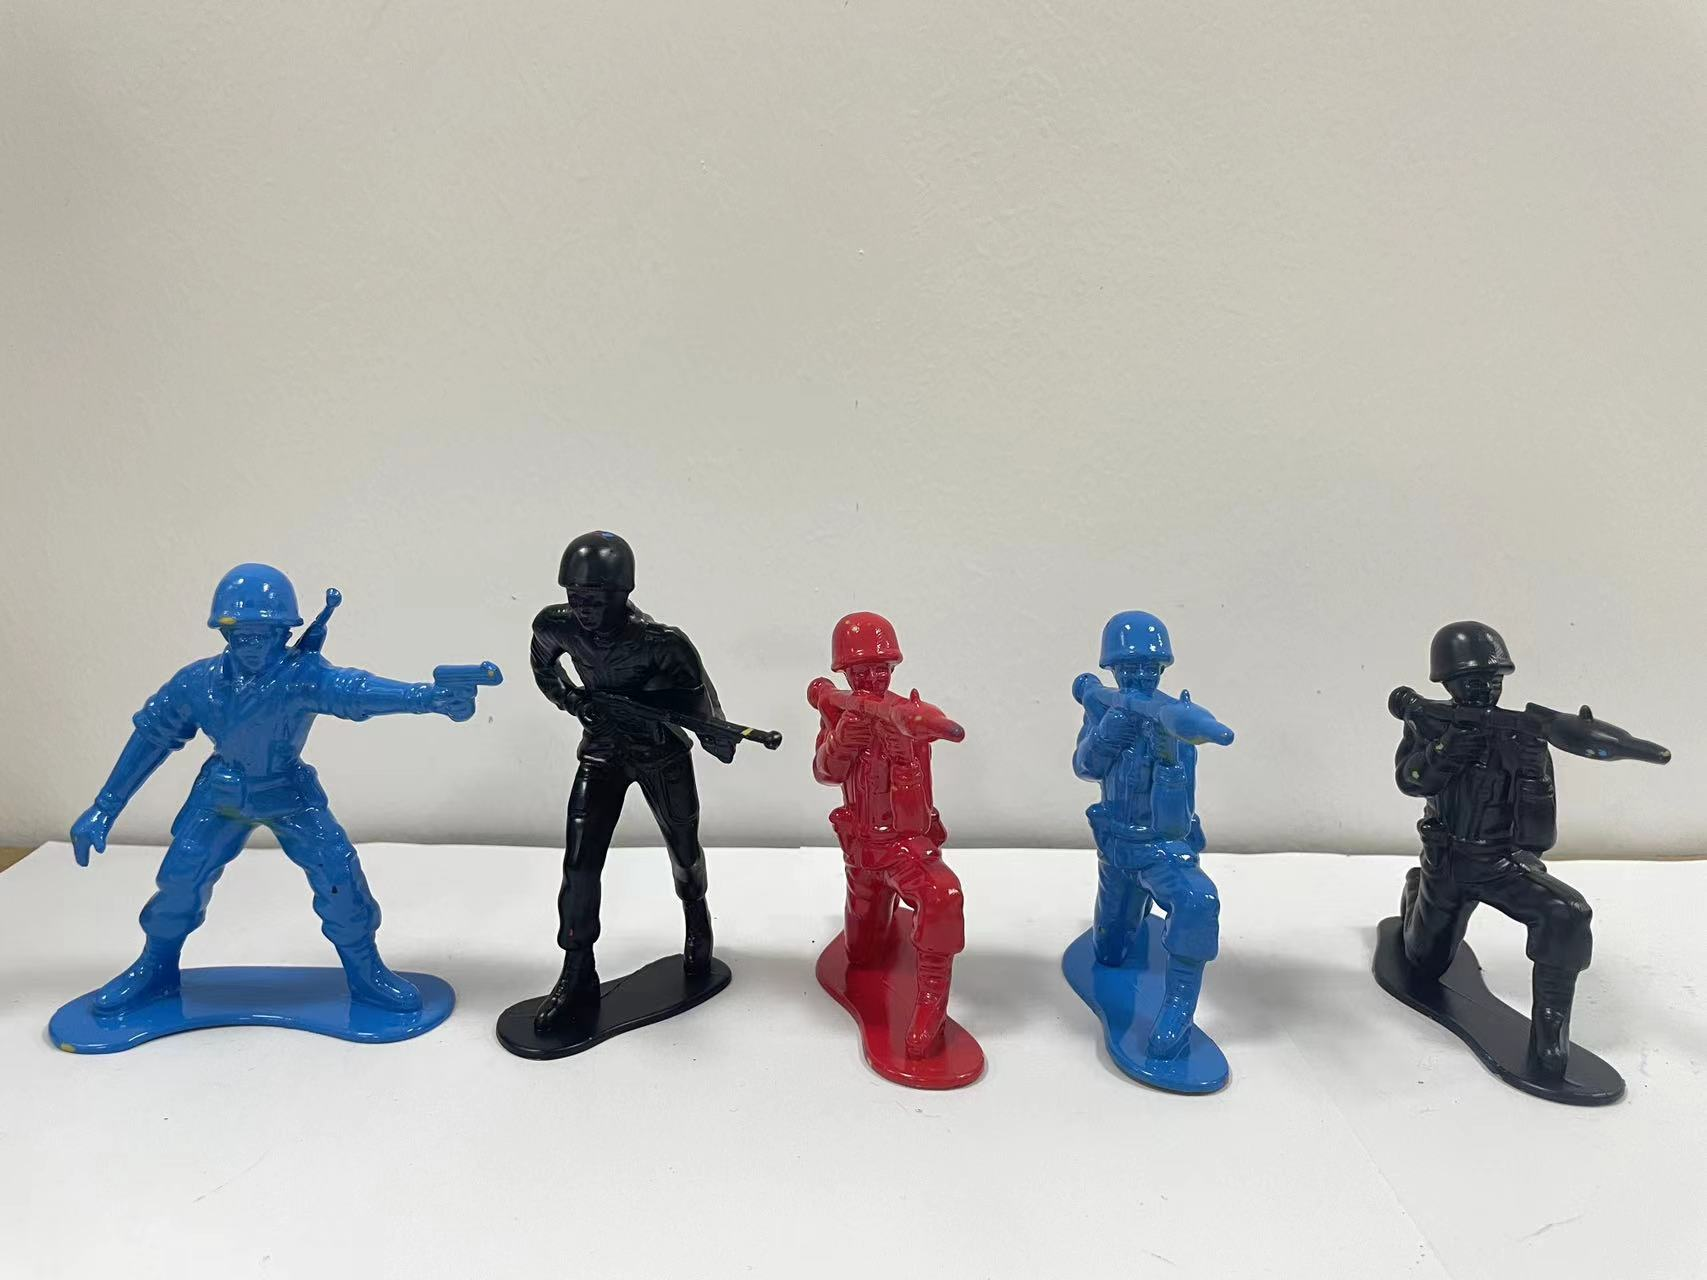black: (1344, 594, 1680, 1119), (491, 522, 790, 1094)
blue: (28, 549, 501, 1072), (1032, 585, 1276, 1119)
red: (788, 597, 1008, 1111)
